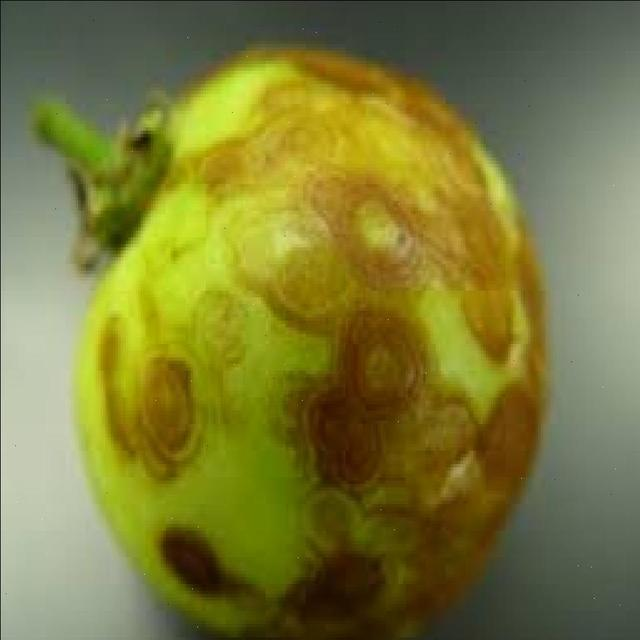Spotted wilt Virus Fruit: (66, 23, 171, 110)
